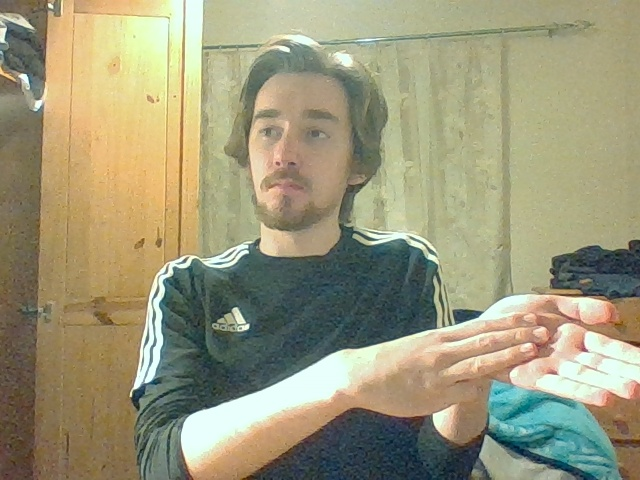mother: (480, 293, 640, 407)
